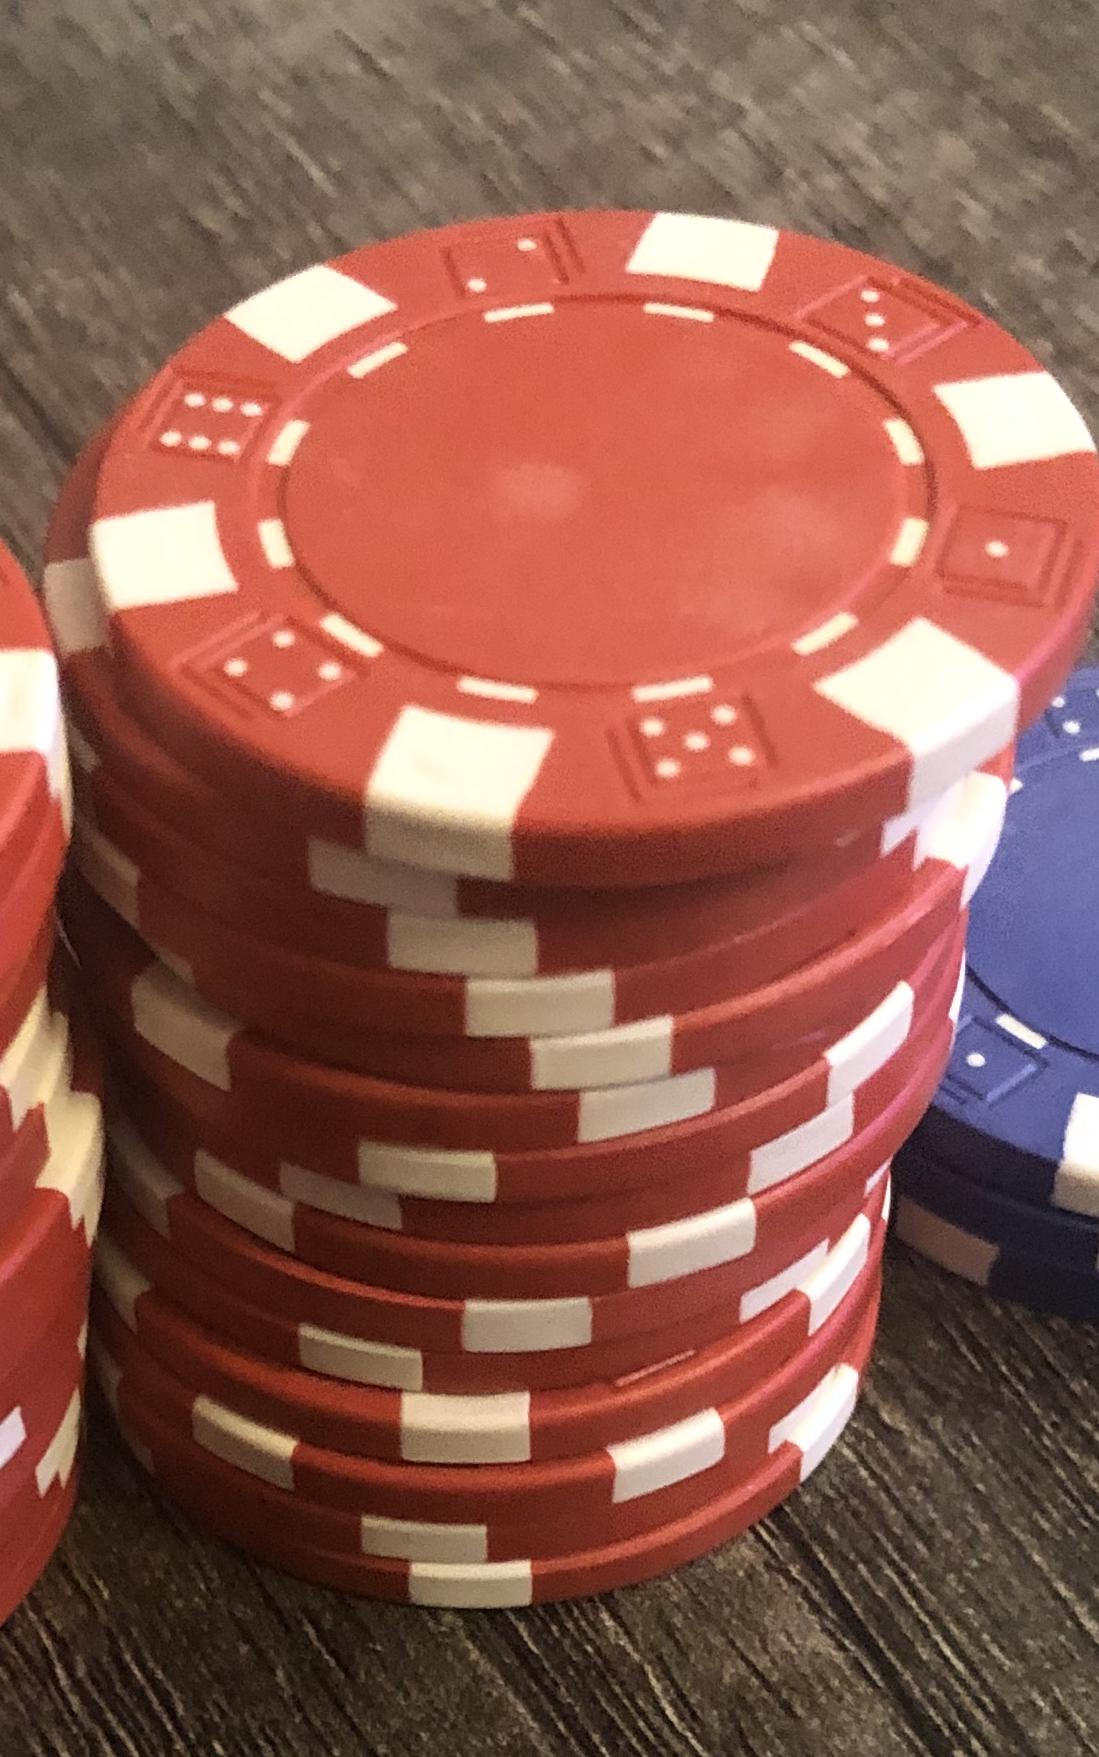Chip: (1, 1, 1099, 1757)
